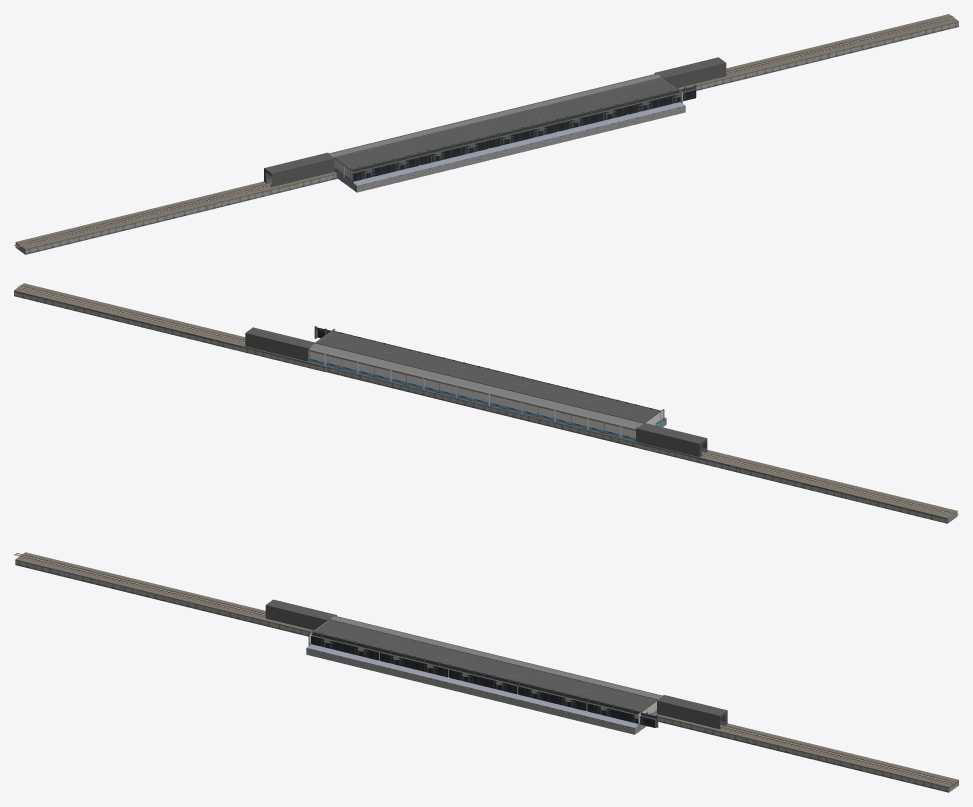
The model's file is station.glb.
The picture shows the model from 3 angles, top to bottom: view 1: azimuth 30°, elevation 25°; view 2: azimuth 150°, elevation 25°; view 3: azimuth 330°, elevation 25°; orthographic projection.
Parts seen in each view (by area): view 1: m_Lambert6, m_Lambert11, m_AIT01W2W1, m_Lambert2, m_Lambert5, m_GFX01 1221:lambert3, m_Lambert3, m_GFX01 1221:lambert2; view 2: m_Lambert11, m_Lambert6, m_Lambert3, m_Lambert5, m_GFX01 1221:lambert3, m_GFX01 1221:lambert2; view 3: m_Lambert6, m_Lambert11, m_AIT01W2W1, m_Lambert2, m_Lambert5, m_GFX01 1221:lambert3, m_GFX01 1221:lambert2, m_Lambert3.
Boxes of the visible parts, x1,y1,x2,y2 form: m_Lambert6: [264, 57, 726, 186]; m_Lambert11: [15, 14, 958, 254]; m_AIT01W2W1: [350, 85, 696, 181]; m_Lambert2: [334, 102, 685, 192]; m_Lambert5: [329, 74, 661, 157]; m_GFX01 1221:lambert3: [14, 16, 955, 246]; m_Lambert3: [329, 74, 682, 184]; m_GFX01 1221:lambert2: [15, 17, 954, 247]; m_Lambert11: [14, 283, 957, 523]; m_Lambert6: [245, 327, 707, 457]; m_Lambert3: [308, 328, 664, 441]; m_Lambert5: [309, 343, 643, 430]; m_GFX01 1221:lambert3: [17, 285, 958, 515]; m_GFX01 1221:lambert2: [18, 286, 957, 516]; m_Lambert6: [265, 599, 727, 729]; m_Lambert11: [15, 552, 958, 792]; m_AIT01W2W1: [311, 631, 658, 727]; m_Lambert2: [306, 644, 656, 734]; m_Lambert5: [330, 616, 662, 699]; m_GFX01 1221:lambert3: [14, 553, 954, 783]; m_GFX01 1221:lambert2: [15, 554, 954, 784]; m_Lambert3: [308, 616, 661, 726].
Size of the model in its own units: 436 by 8.76 by 24.37.
14 materials, 13 textured.
